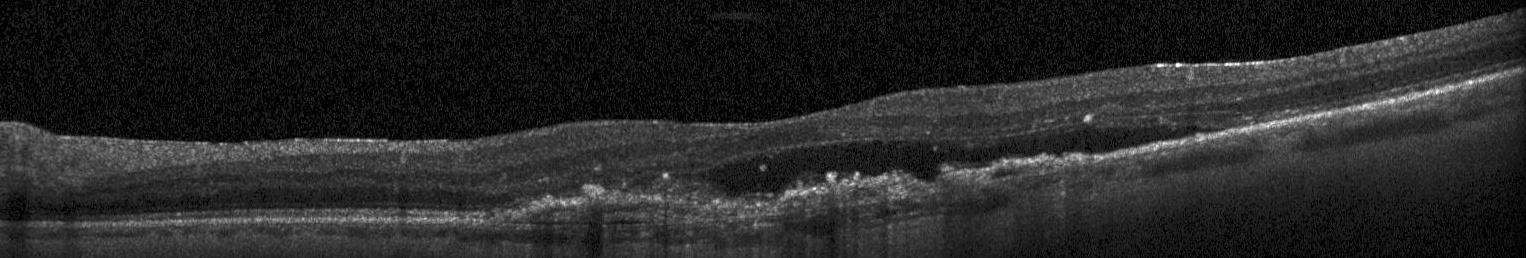neuroepithelium_detachment: (703, 124, 1223, 193)
subretinal_hyperreflective_material: (492, 152, 1105, 223)
